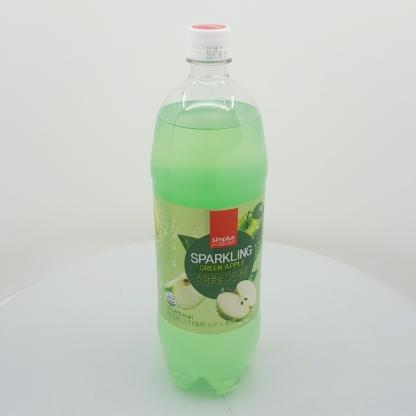----------------: (150, 24, 268, 395)
